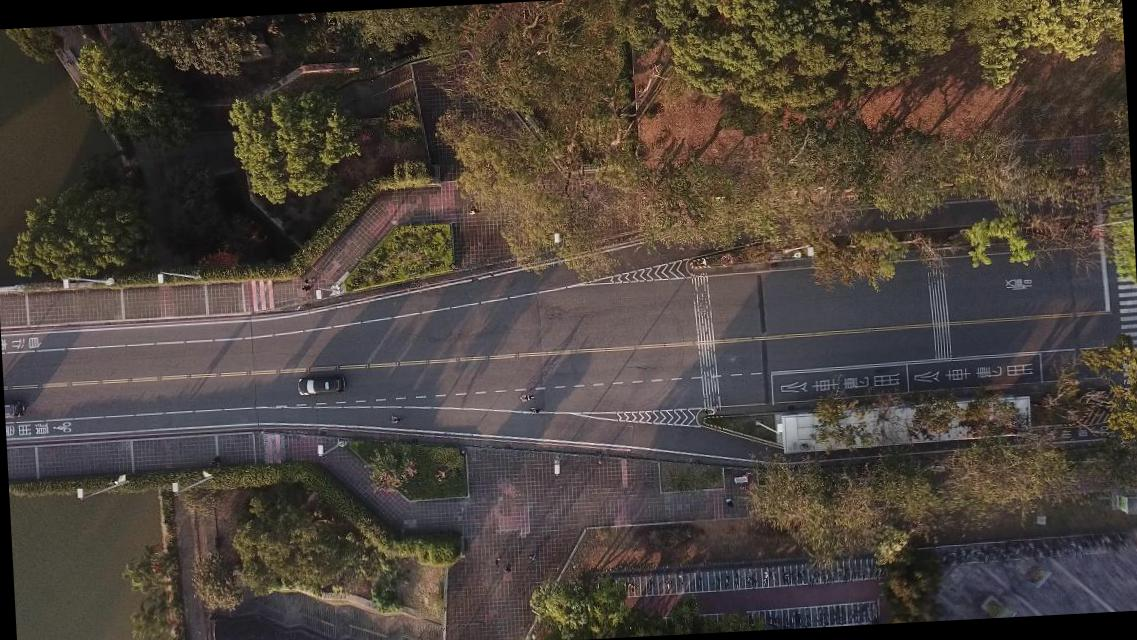vehicle: (296, 374, 345, 398), (4, 398, 25, 419)
